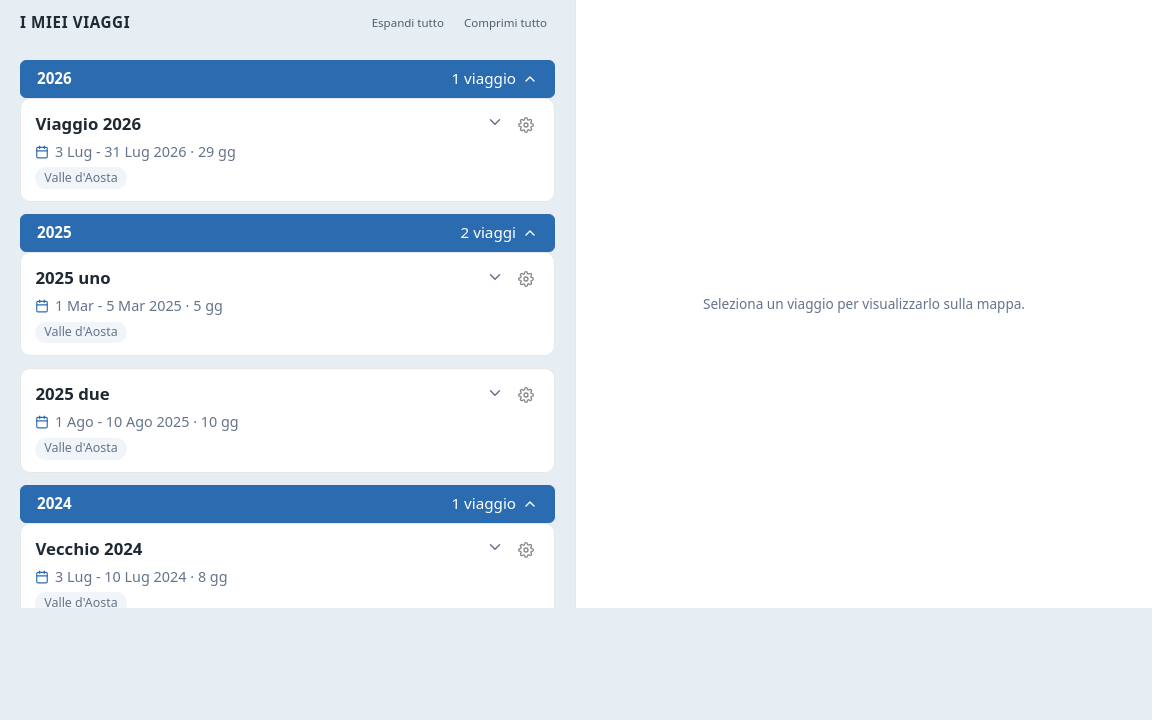
TripsDashboard — year grouping accordion › closes only the clicked year and keeps the others open
Click the button "Viaggi 2025" at [54, 232], box [20,214,555,252]
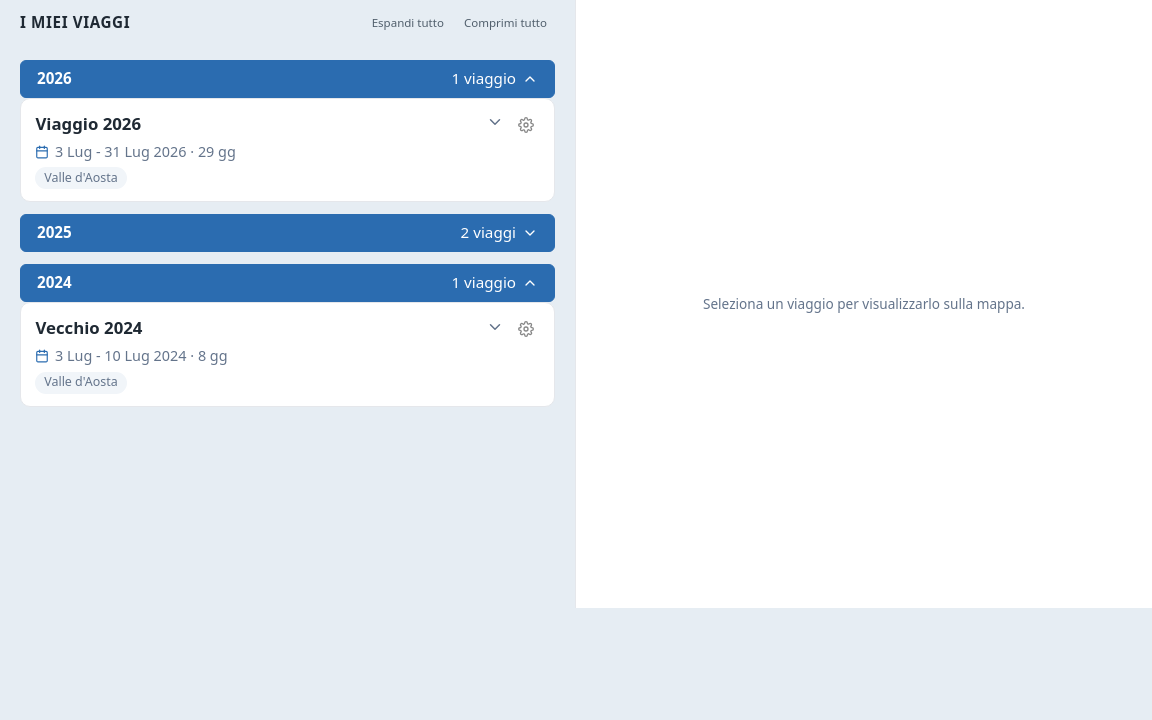
Expected: the element showing "Vecchio 2024 3 Lug - 10 Lug 2024 · 8 gg Valle d'Aosta" is shown, [20,302,555,406]
Now the button "Viaggi 2025" is collapsed, box [20,214,555,252]
